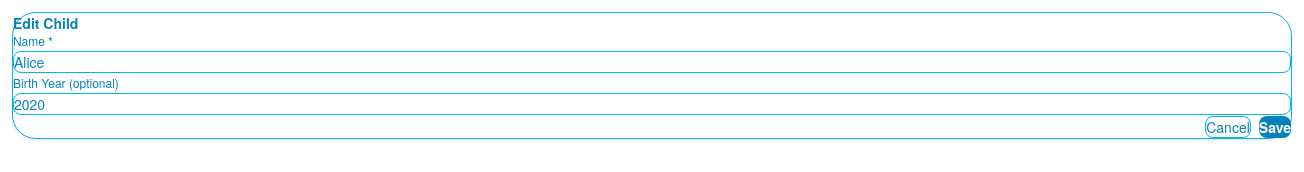
Test: EditChildForm › disables save button when name is empty
The width and height of the screenshot is (1304, 172).
Clear the field with test id "edit-child-name-input" at (652, 62), box x1=13 y1=51 x2=1291 y2=73
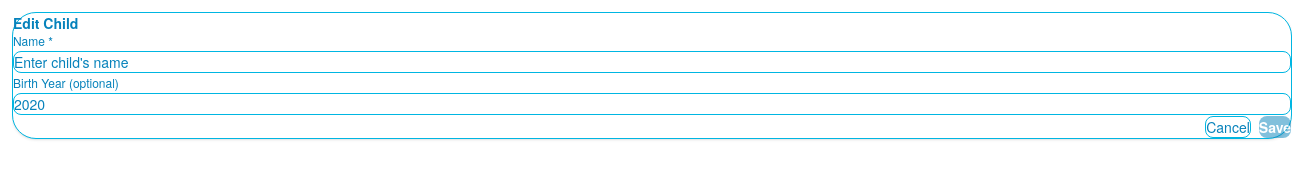
Now the button with test id "edit-child-save-btn" is disabled, box x1=1259 y1=116 x2=1291 y2=138
